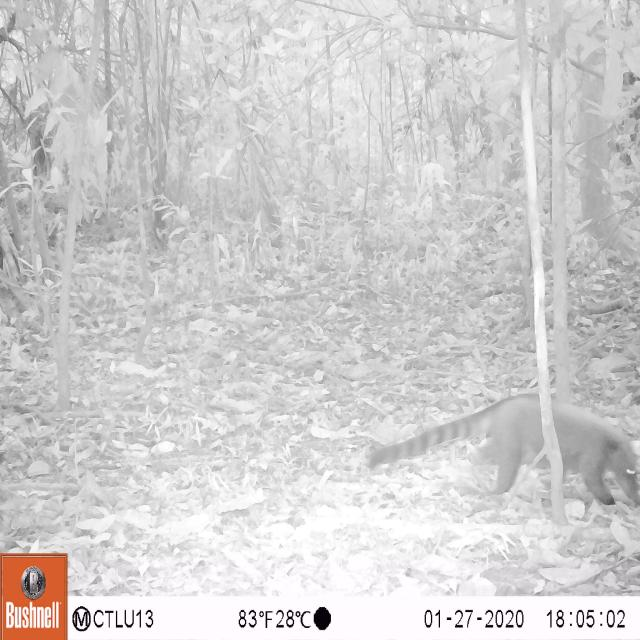South American Coati: (360, 388, 640, 519)
